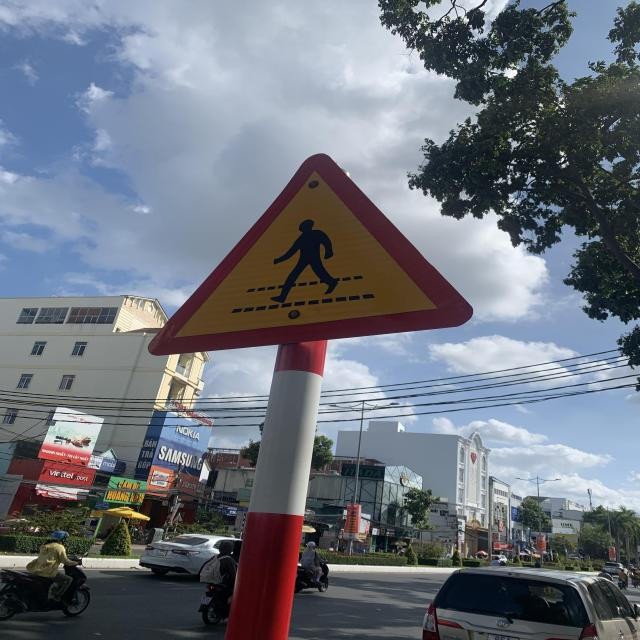Duong_Nguoi_Di_Bo_Sang_Ngang: (150, 153, 474, 354)
